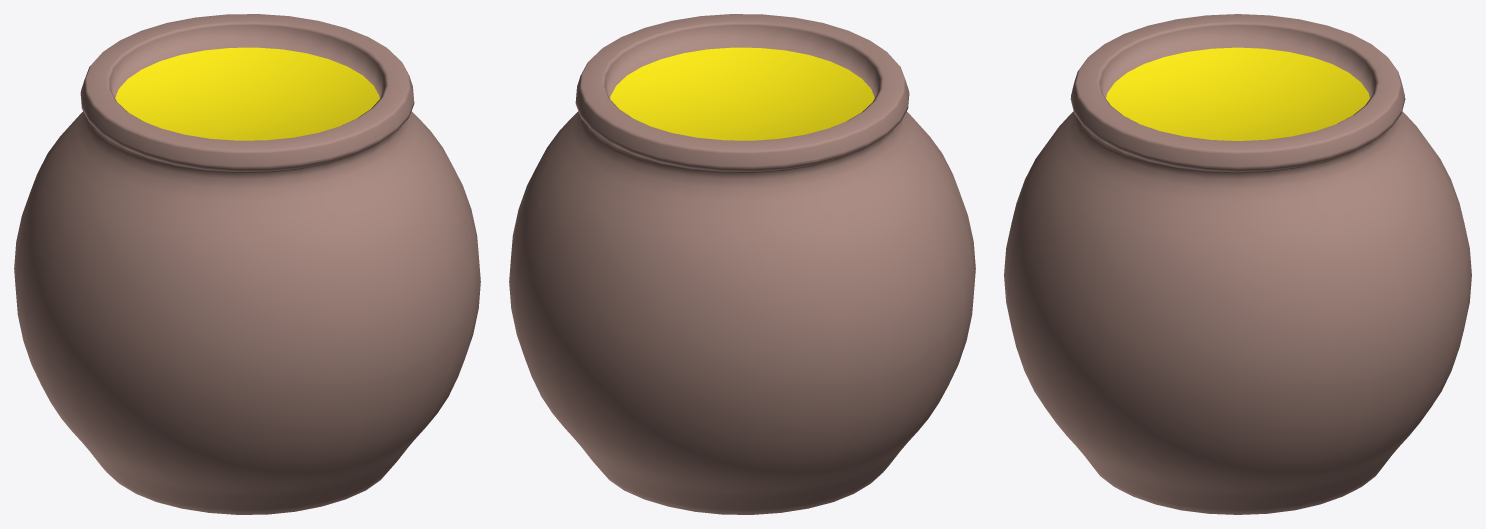
File: Farm_10_Pot_Honey_1.glb
The picture shows the model from 3 angles, left to right: view 1: azimuth 30°, elevation 25°; view 2: azimuth 150°, elevation 25°; view 3: azimuth 270°, elevation 25°; orthographic projection.
Parts seen in each view (by area): view 1: Farm_10_Pot_Honey_1; view 2: Farm_10_Pot_Honey_1; view 3: Farm_10_Pot_Honey_1.
Part boxes in pixels (<box>): Farm_10_Pot_Honey_1: <box>14,14,480,514</box>; Farm_10_Pot_Honey_1: <box>509,14,975,514</box>; Farm_10_Pot_Honey_1: <box>1004,14,1471,514</box>.
Bounding box in the file's own units: 0.2631 × 0.2349 × 0.2631.
1 material, 1 textured.
